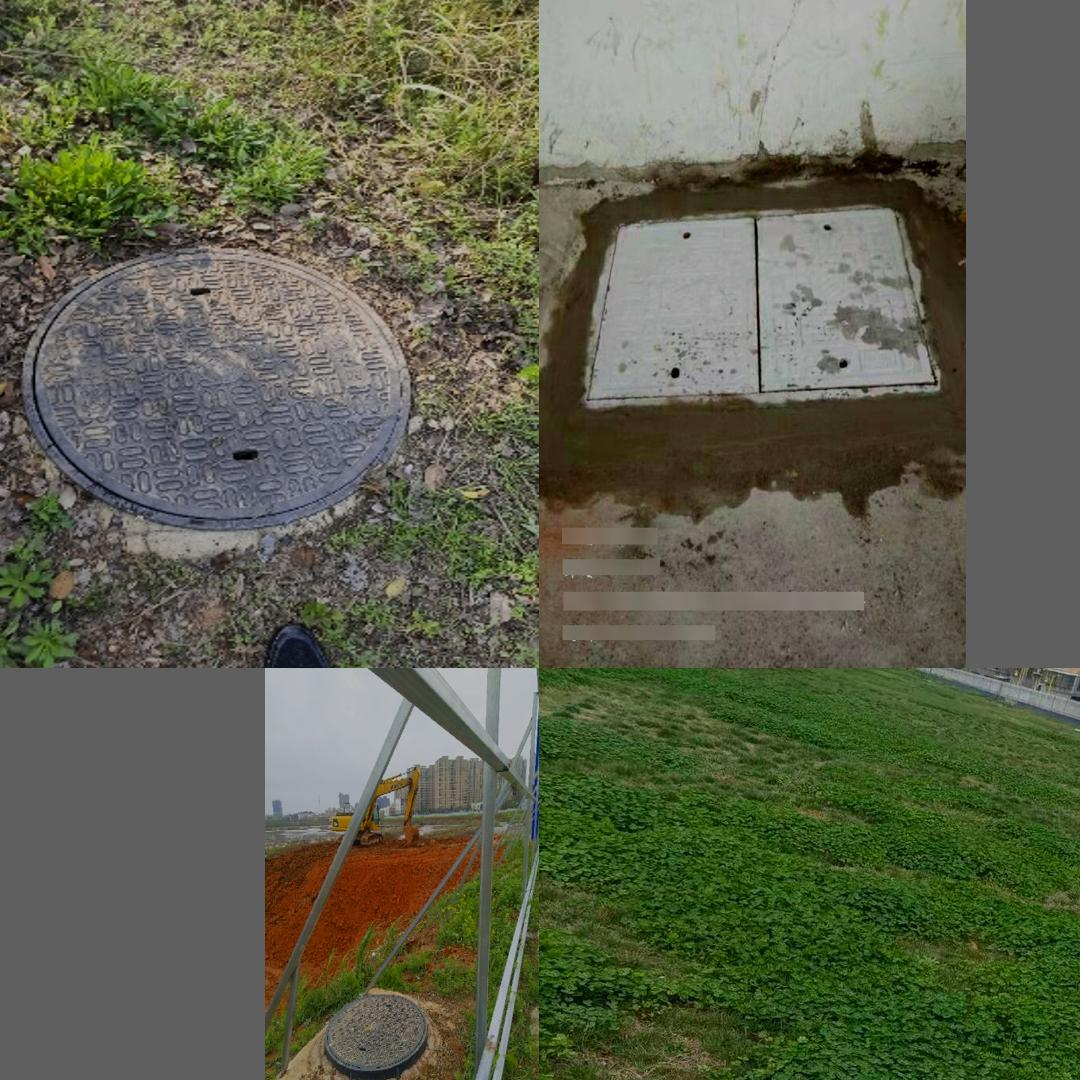good: (24, 248, 414, 528), (588, 212, 943, 395), (325, 993, 428, 1077)
